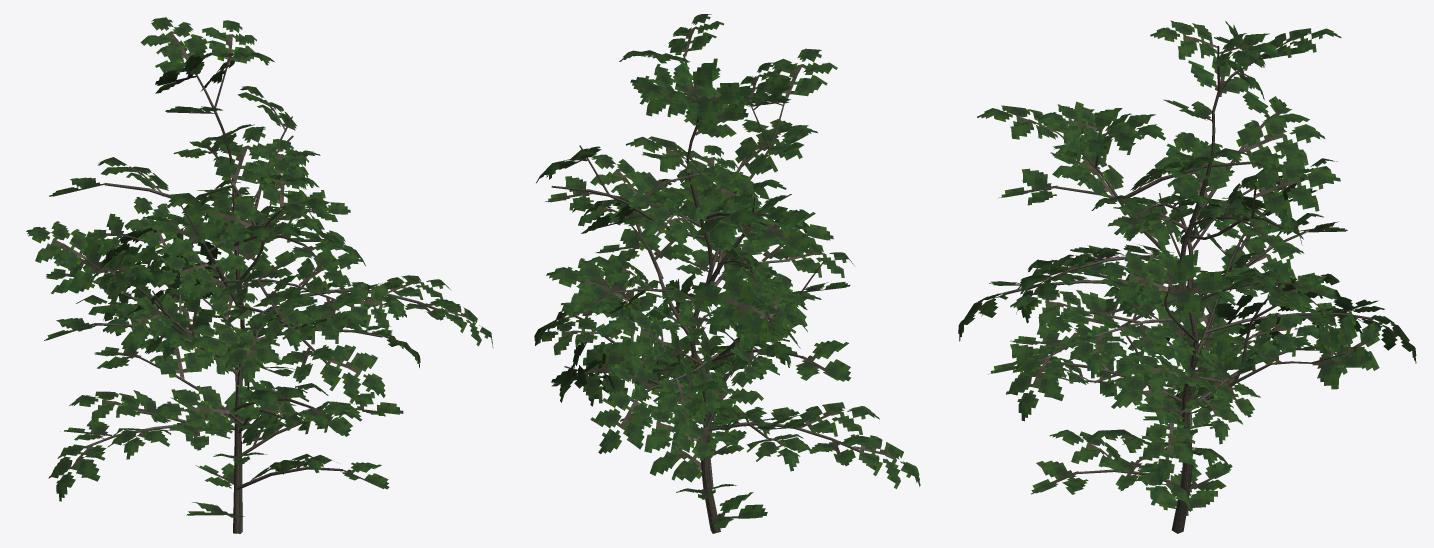
The model's file is Bush1-3.fbx.
The picture shows the model from 3 angles, left to right: view 1: azimuth 30°, elevation 25°; view 2: azimuth 150°, elevation 25°; view 3: azimuth 270°, elevation 25°; orthographic projection. The views are drawn at different scales.
Parts seen in each view (by area): view 1: Bush1-3_LOD0; view 2: Bush1-3_LOD0; view 3: Bush1-3_LOD0.
Boxes of the visible parts, x1=… form: Bush1-3_LOD0: x1=26, y1=17, x2=493, y2=533; Bush1-3_LOD0: x1=534, y1=14, x2=920, y2=533; Bush1-3_LOD0: x1=958, y1=20, x2=1416, y2=533.
Size of what is drawn, in the model's own units: 1.1 by 1.08 by 1.31.
